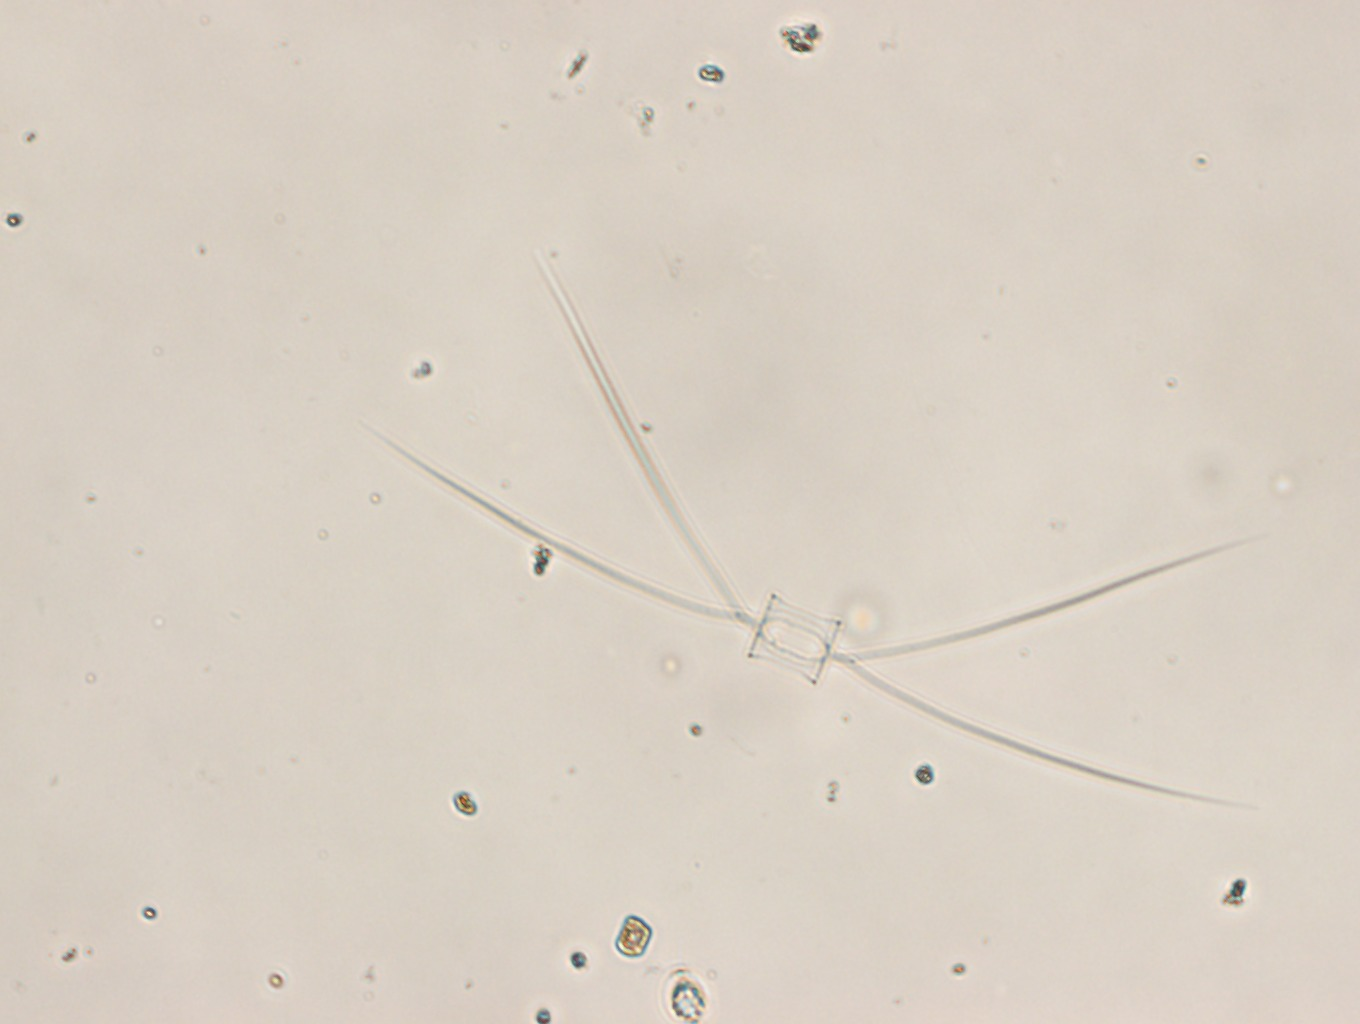chaetoceros: (356, 248, 1261, 806)
